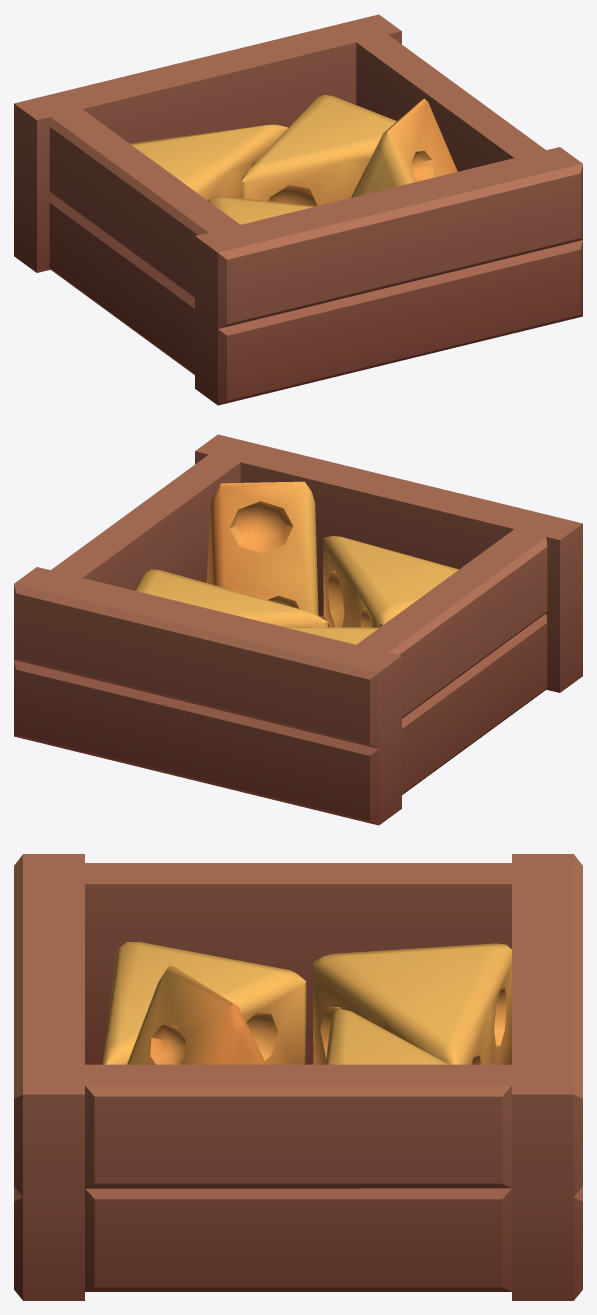
File: crate_cheese.glb
The picture shows the model from 3 angles, top to bottom: view 1: azimuth 30°, elevation 25°; view 2: azimuth 150°, elevation 25°; view 3: azimuth 270°, elevation 25°; orthographic projection. The views are drawn at different scales.
Parts seen in each view (by area): view 1: crate_cheese_Cube.232; view 2: crate_cheese_Cube.232; view 3: crate_cheese_Cube.232.
Part boxes in pixels (box(x1,y1,x2,y2)): crate_cheese_Cube.232: box(14, 14, 582, 405); crate_cheese_Cube.232: box(14, 434, 582, 825); crate_cheese_Cube.232: box(14, 854, 582, 1300).
Bounding box in the file's own units: 2 × 0.946 × 2.
Materials: 1 (1 with a texture image).
